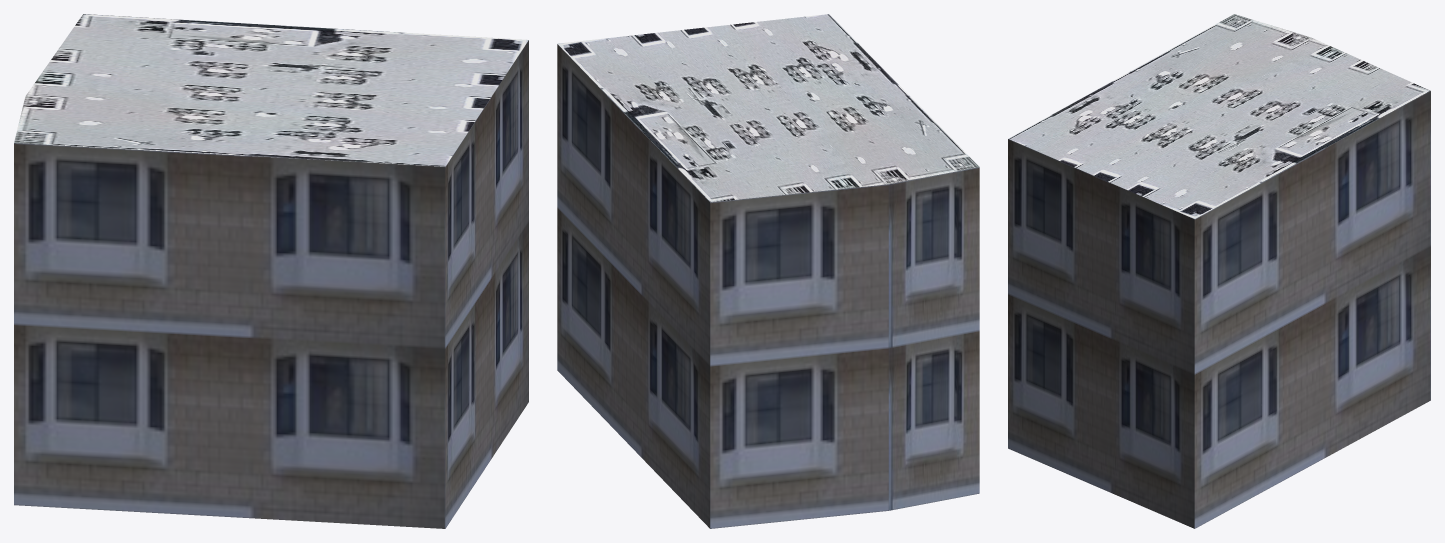
The model's file is ResTex__4919.fbx.
3 renders of one model, left to right at view 1: azimuth 30°, elevation 25°; view 2: azimuth 150°, elevation 25°; view 3: azimuth 270°, elevation 25°, orthographic. The views are drawn at different scales.
Visible parts, largest first — view 1: CityEngineMaterial_3_m, CityEngineMaterial_8_m; view 2: CityEngineMaterial_3_m, CityEngineMaterial_8_m; view 3: CityEngineMaterial_3_m, CityEngineMaterial_8_m.
Part boxes in pixels (x1=…): CityEngineMaterial_3_m: x1=14, y1=40, x2=528, y2=528; CityEngineMaterial_8_m: x1=14, y1=14, x2=528, y2=166; CityEngineMaterial_3_m: x1=557, y1=44, x2=979, y2=528; CityEngineMaterial_8_m: x1=557, y1=14, x2=979, y2=202; CityEngineMaterial_3_m: x1=1008, y1=91, x2=1430, y2=528; CityEngineMaterial_8_m: x1=1008, y1=14, x2=1430, y2=218.
Bounding box in the file's own units: 8.53 × 6 × 7.42.
2 materials, 2 textured.
